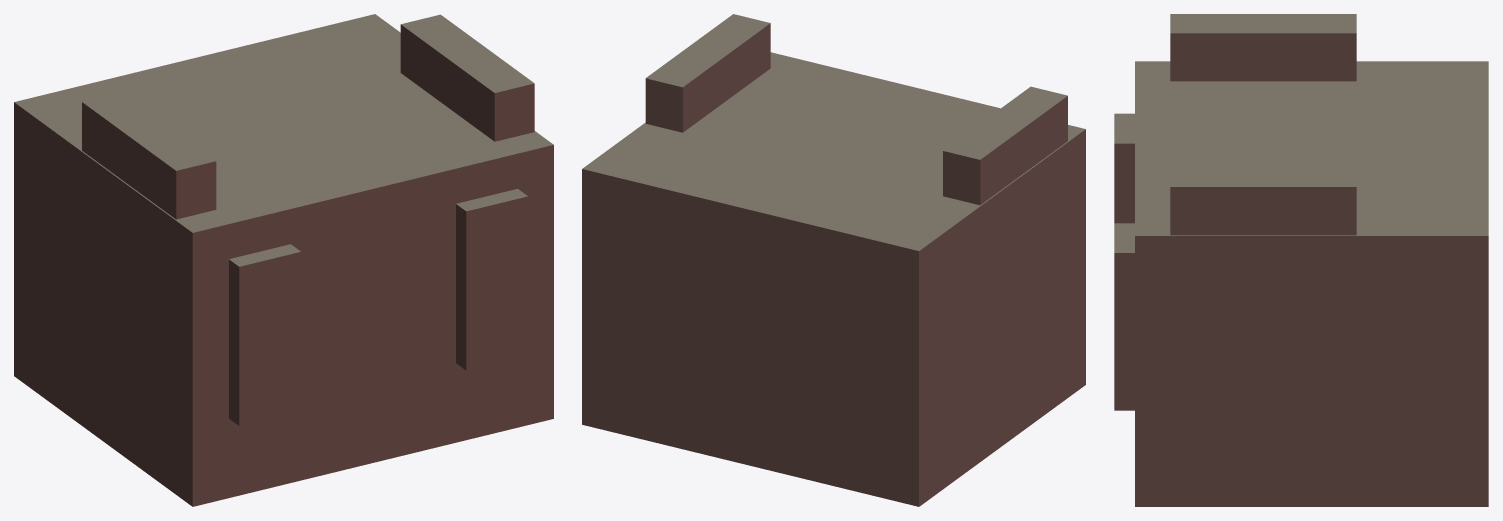
Rendered from ns-rowhouses.far-facades-v3.lod2.glb.
The picture shows the model from 3 angles, left to right: view 1: azimuth 30°, elevation 25°; view 2: azimuth 150°, elevation 25°; view 3: azimuth 270°, elevation 25°; orthographic projection. The views are drawn at different scales.
Visible parts, largest first — view 1: ns-rowhouses; view 2: ns-rowhouses; view 3: ns-rowhouses.
Part boxes in pixels (<box>): ns-rowhouses: <box>14,14,553,506</box>; ns-rowhouses: <box>582,14,1085,506</box>; ns-rowhouses: <box>1114,14,1488,506</box>.
Bounding box in the file's own units: 14 × 11.95 × 12.7.
